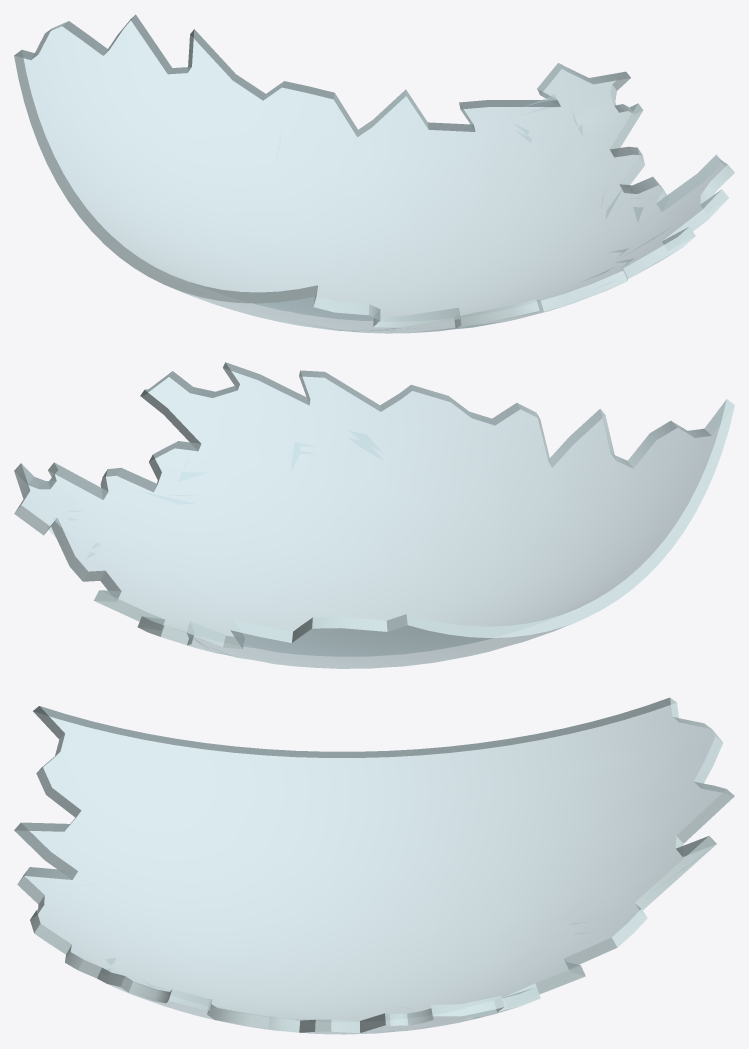
The model's file is SM_DomeShard_3.fbx.
3 views of the same model, one above another, from view 1: azimuth 30°, elevation 25°; view 2: azimuth 150°, elevation 25°; view 3: azimuth 270°, elevation 25° (orthographic). The views are drawn at different scales.
Visible parts, largest first — view 1: SM_DomeShard_3; view 2: SM_DomeShard_3; view 3: SM_DomeShard_3.
Part boxes in pixels (x1,y1,x2,y2): SM_DomeShard_3: [14, 14, 734, 333]; SM_DomeShard_3: [14, 362, 734, 668]; SM_DomeShard_3: [14, 697, 734, 1034].
Bounding box in the file's own units: 1.08 × 0.317 × 1.19.
